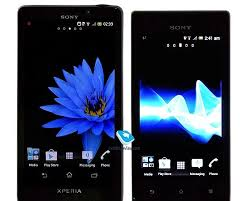sony: (14, 1, 123, 201), (128, 8, 235, 201)
